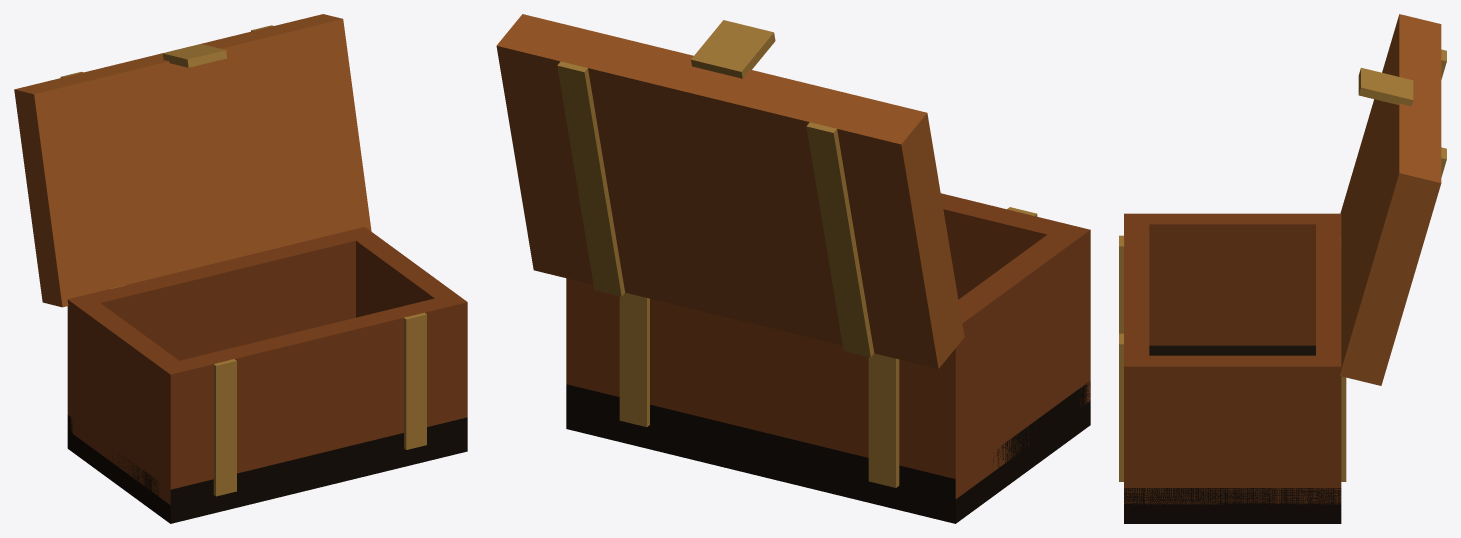
The model's file is open.glb.
3 views of the same model, side by side, from view 1: azimuth 30°, elevation 25°; view 2: azimuth 150°, elevation 25°; view 3: azimuth 270°, elevation 25° (orthographic). The views are drawn at different scales.
Visible parts, largest first — view 1: ChestOpen; view 2: ChestOpen; view 3: ChestOpen.
Part boxes in pixels (x1,y1,x2,y2): ChestOpen: (14, 14, 467, 523); ChestOpen: (496, 14, 1090, 523); ChestOpen: (1119, 14, 1446, 523).
Bounding box in the file's own units: 1.04 × 1.13 × 0.9058.
1 material, 1 textured.
